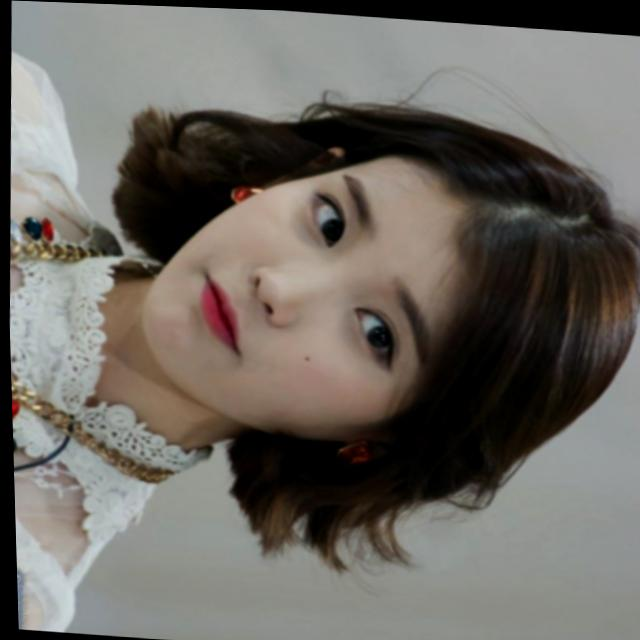face: (131, 120, 472, 448)
